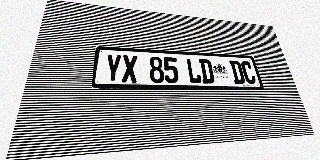5: (163, 57, 179, 83)
8: (149, 56, 165, 83)
C: (240, 61, 257, 84)
D: (198, 59, 215, 84), (229, 60, 246, 84)
L: (186, 58, 202, 83)
X: (122, 55, 138, 83)
Y: (104, 54, 122, 82)
